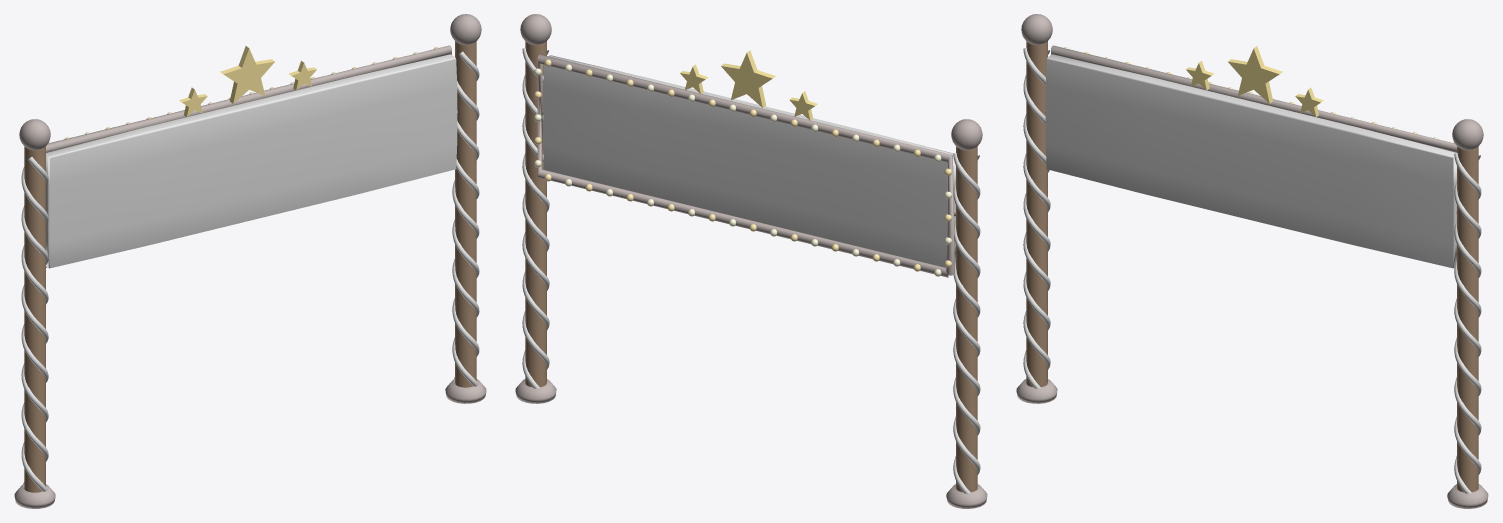
Rendered from ArcadeBestBoard.glb.
3 views of the same model, side by side, from view 1: azimuth 30°, elevation 25°; view 2: azimuth 150°, elevation 25°; view 3: azimuth 330°, elevation 25° (orthographic).
Parts seen in each view (by area): view 1: Panel, Posts, Trim, PostStripes, Stars; view 2: Panel, Posts, Trim, PostStripes, Stars, BulbsB, BulbsA; view 3: Panel, Posts, Trim, PostStripes, Stars.
Part boxes in pixels (<box>): Panel: <box>46,54,457,268</box>; Posts: <box>24,41,476,492</box>; Trim: <box>14,14,486,508</box>; PostStripes: <box>21,51,479,491</box>; Stars: <box>179,46,316,116</box>; Panel: <box>543,55,955,267</box>; Posts: <box>525,41,977,492</box>; Trim: <box>515,14,987,508</box>; PostStripes: <box>522,48,980,493</box>; Stars: <box>680,50,817,120</box>; BulbsB: <box>534,59,951,271</box>; BulbsA: <box>534,64,951,276</box>; Panel: <box>1045,54,1456,268</box>; Posts: <box>1026,41,1478,492</box>; Trim: <box>1016,14,1488,508</box>; PostStripes: <box>1023,48,1481,493</box>; Stars: <box>1186,46,1323,116</box>.
Bounding box in the file's own units: 27.3 × 22.3 × 2.1.
